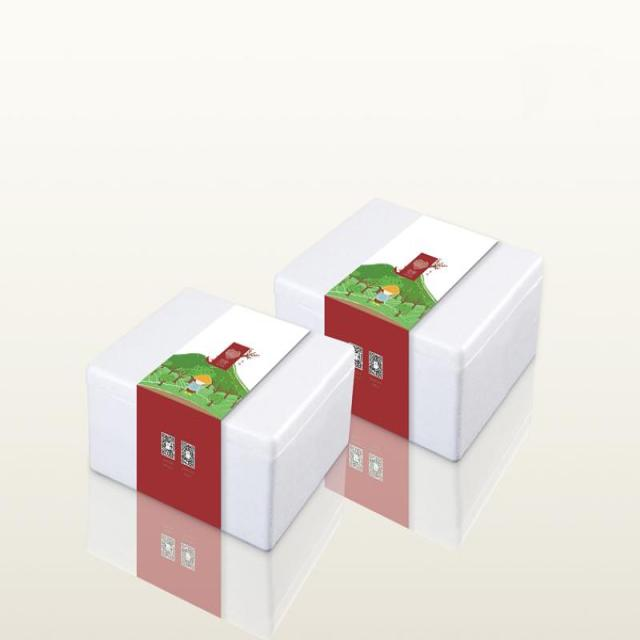styrofoam: (273, 194, 544, 463), (86, 285, 355, 551)
